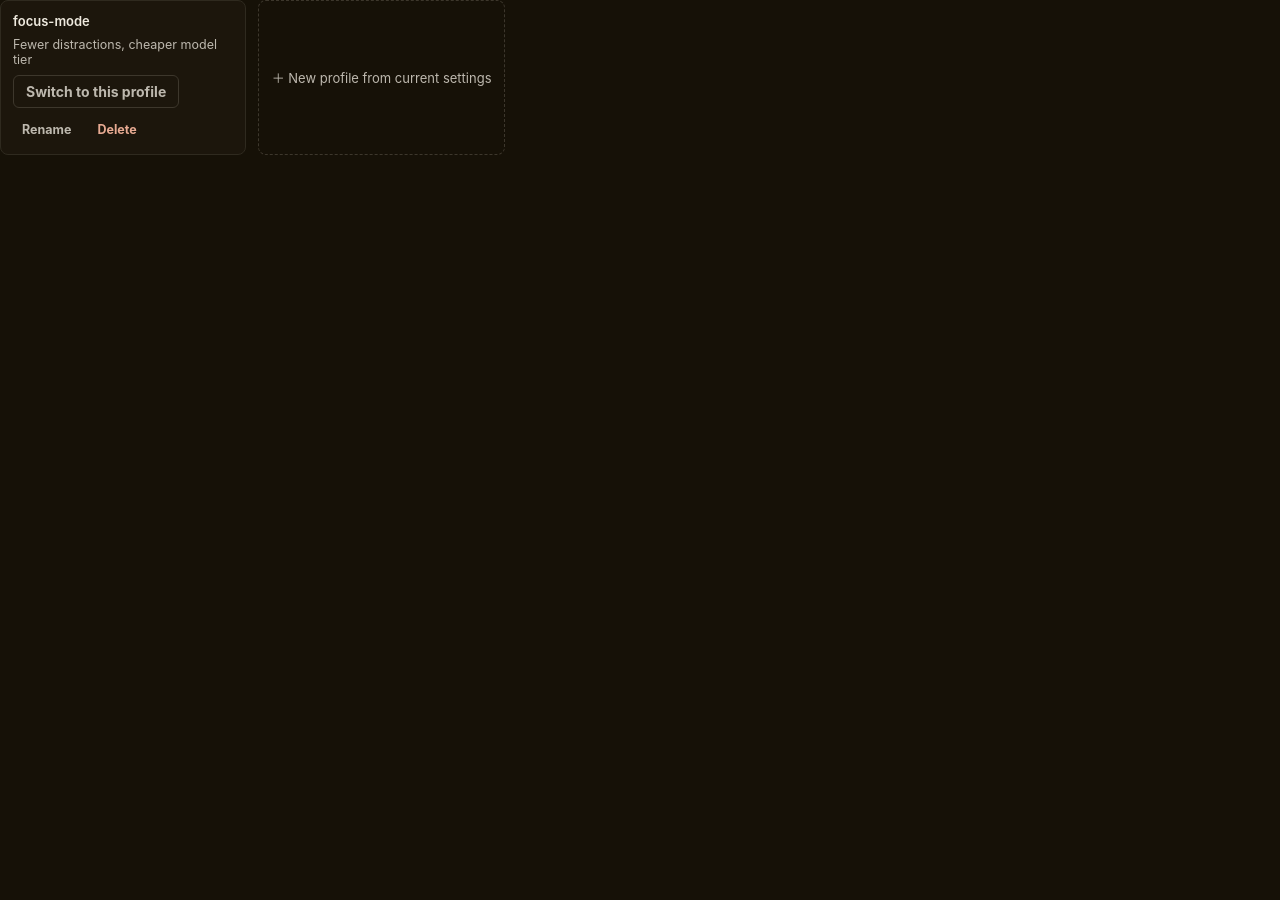
Test: ProfilesSection › clicking Switch opens the ProfileSwitchDialog
Click the button "Switch to this profile" at (96,92), box [13, 75, 179, 108]
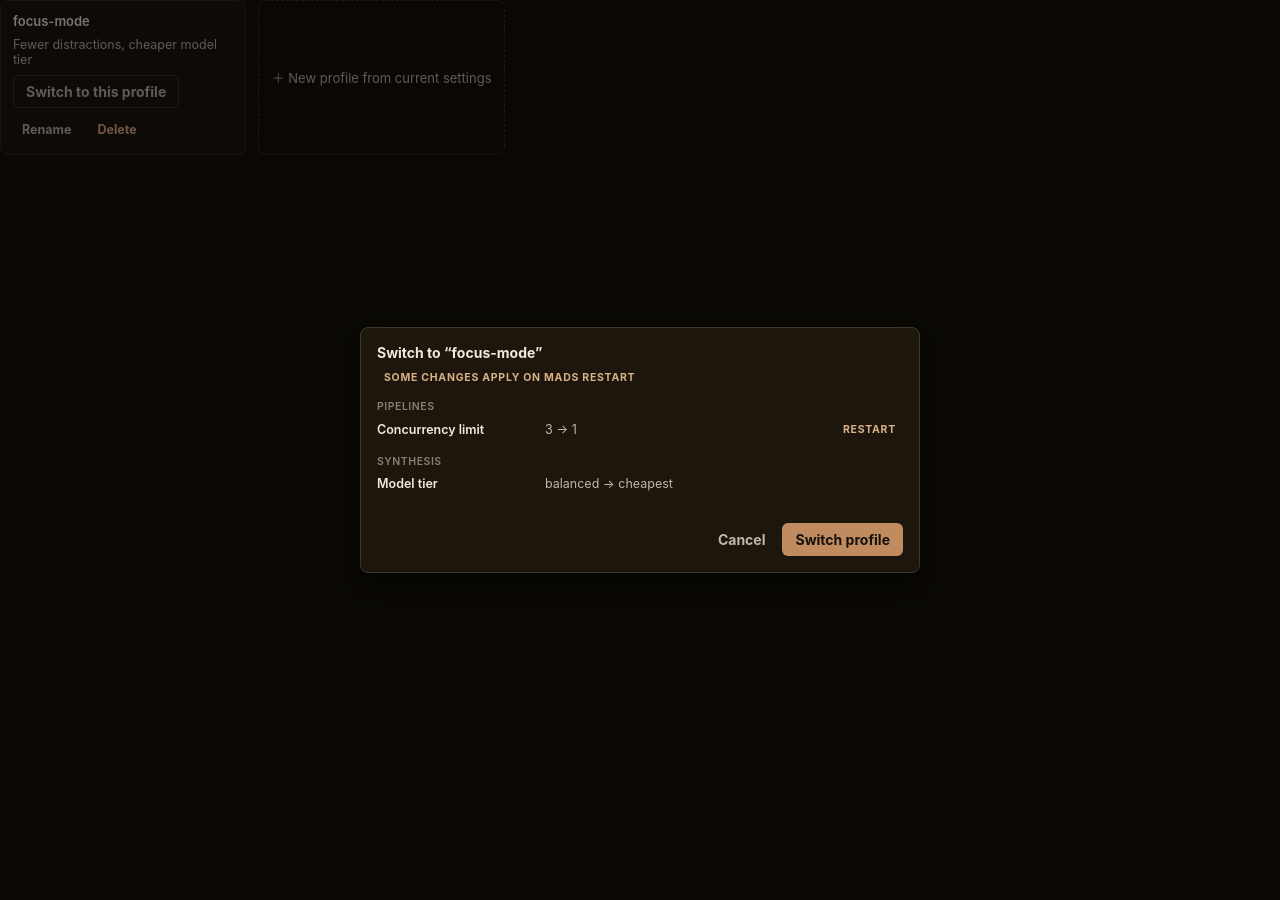
Now the dialog is shown, box [360, 327, 920, 573]
